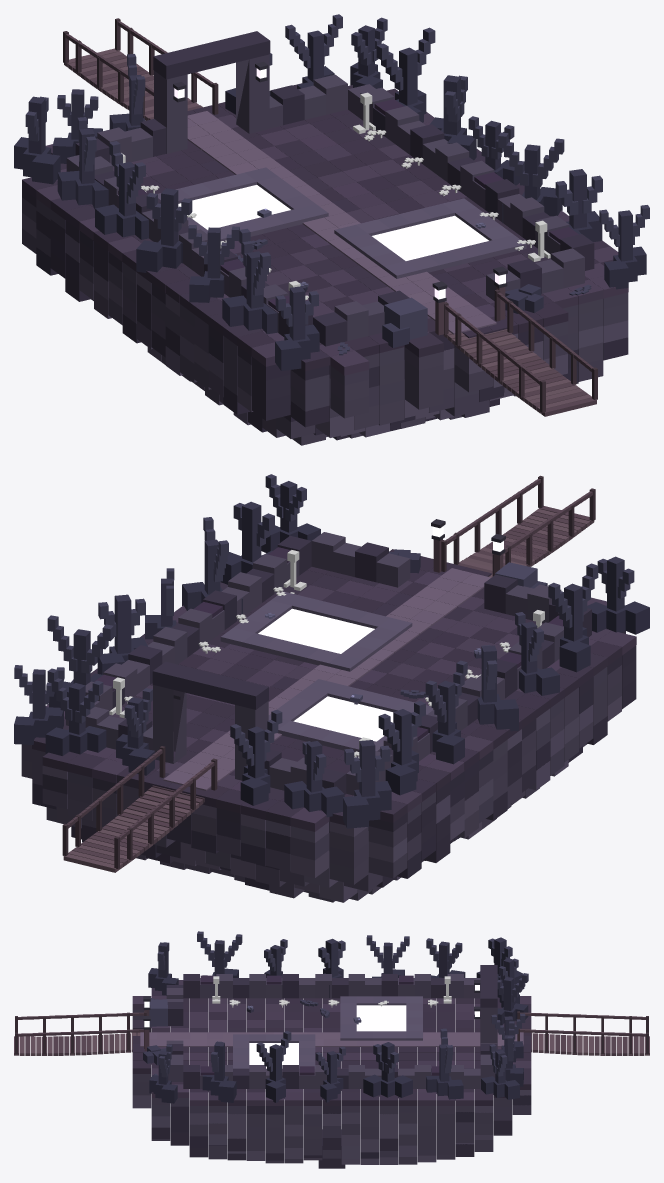
Rendered from room_pools_polluted.glb.
The picture shows the model from 3 angles, top to bottom: view 1: azimuth 30°, elevation 25°; view 2: azimuth 150°, elevation 25°; view 3: azimuth 270°, elevation 25°; orthographic projection. The views are drawn at different scales.
Parts seen in each view (by area): view 1: room_pools_blocks, tree2_(0, 0).001, tree0_(0, 0).002, tree2_(0, 0).002, tree0_(0, 0).001, tree1_(0, 0).001, tree5_(0, 0).001, tree0_(0, 0).003, tree5_(0, 0).002, tree4_(0, 0).002, tree4_(0, 0).001, tree3_(0, 0).001 (+8 smaller); view 2: room_pools_blocks, tree5_(0, 0).003, tree0_(0, 0).003, tree2_(0, 0).001, tree0_(0, 0).001, tree4_(0, 0).002, tree2_(0, 0).003, tree2_(0, 0).002, tree1_(0, 0).003, tree0_(0, 0).004, tree5_(0, 0).002, tree3_(0, 0).002 (+8 smaller); view 3: room_pools_blocks, tree3_(0, 0).002, tree5_(0, 0).001, tree5_(0, 0).002, tree3_(0, 0).001, tree1_(0, 0).003, tree2_(0, 0).003, tree1_(0, 0).002, tree2_(0, 0).001, tree1_(0, 0).001, tree2_(0, 0).002, tree4_(0, 0).002 (+8 smaller).
Boxes of the visible parts, x1,y1,x2,y2 form: room_pools_blocks: [22, 18, 628, 445]; tree2_(0, 0).001: [222, 228, 277, 334]; tree0_(0, 0).002: [136, 188, 192, 272]; tree2_(0, 0).002: [95, 141, 148, 239]; tree0_(0, 0).001: [275, 286, 319, 370]; tree1_(0, 0).001: [599, 205, 649, 289]; tree5_(0, 0).001: [498, 132, 564, 223]; tree0_(0, 0).003: [14, 96, 60, 184]; tree5_(0, 0).002: [376, 27, 435, 122]; tree4_(0, 0).002: [57, 117, 108, 209]; tree4_(0, 0).001: [188, 225, 239, 302]; tree3_(0, 0).001: [555, 169, 602, 241]; room_pools_blocks: [21, 475, 636, 902]; tree5_(0, 0).003: [45, 668, 106, 755]; tree0_(0, 0).003: [343, 740, 391, 828]; tree2_(0, 0).001: [548, 563, 598, 672]; tree0_(0, 0).001: [587, 556, 649, 634]; tree4_(0, 0).002: [378, 701, 425, 795]; tree2_(0, 0).003: [230, 709, 282, 805]; tree2_(0, 0).002: [425, 660, 467, 764]; tree1_(0, 0).003: [14, 665, 64, 744]; tree0_(0, 0).004: [284, 741, 344, 817]; tree5_(0, 0).002: [47, 615, 113, 711]; tree3_(0, 0).002: [97, 594, 147, 674]; room_pools_blocks: [14, 965, 649, 1168]; tree3_(0, 0).002: [363, 1042, 412, 1097]; tree5_(0, 0).001: [256, 1031, 291, 1102]; tree5_(0, 0).002: [426, 1028, 463, 1100]; tree3_(0, 0).001: [202, 1041, 236, 1102]; tree1_(0, 0).003: [481, 1044, 519, 1099]; tree2_(0, 0).003: [497, 973, 528, 1025]; tree1_(0, 0).002: [315, 1046, 345, 1102]; tree2_(0, 0).001: [197, 931, 242, 977]; tree1_(0, 0).001: [149, 1044, 177, 1103]; tree2_(0, 0).002: [366, 935, 409, 977]; tree4_(0, 0).002: [426, 938, 465, 977].
Bounding box in the file's own units: 17.77 × 12.1 × 38.5.
